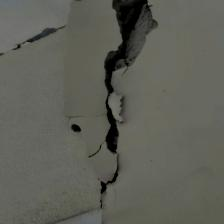High: (1, 1, 164, 224)
